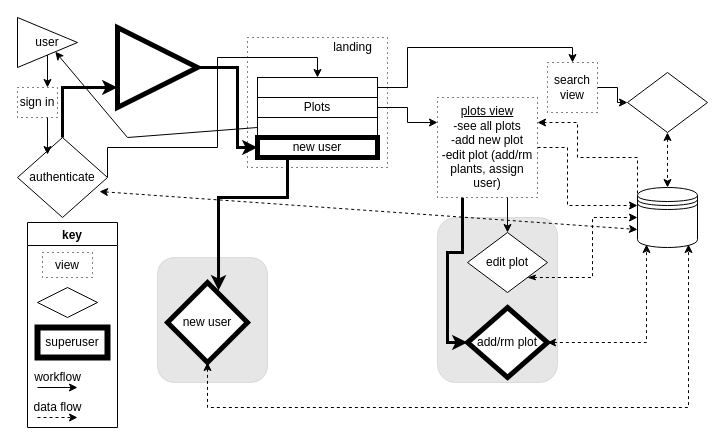
Some shapes in this 725 by 445 pixel diagram are drawn without their labels. The shapes that lost their labels are listed below. From the top down, each one's box as (x1, y1, x2, y2) in pixels, then its label:
(114, 24, 200, 110): admin
(256, 76, 378, 98): Search
(626, 72, 708, 132): search plots by
(256, 116, 378, 138): Sign Out
(636, 186, 698, 248): db
(36, 286, 98, 318): action
